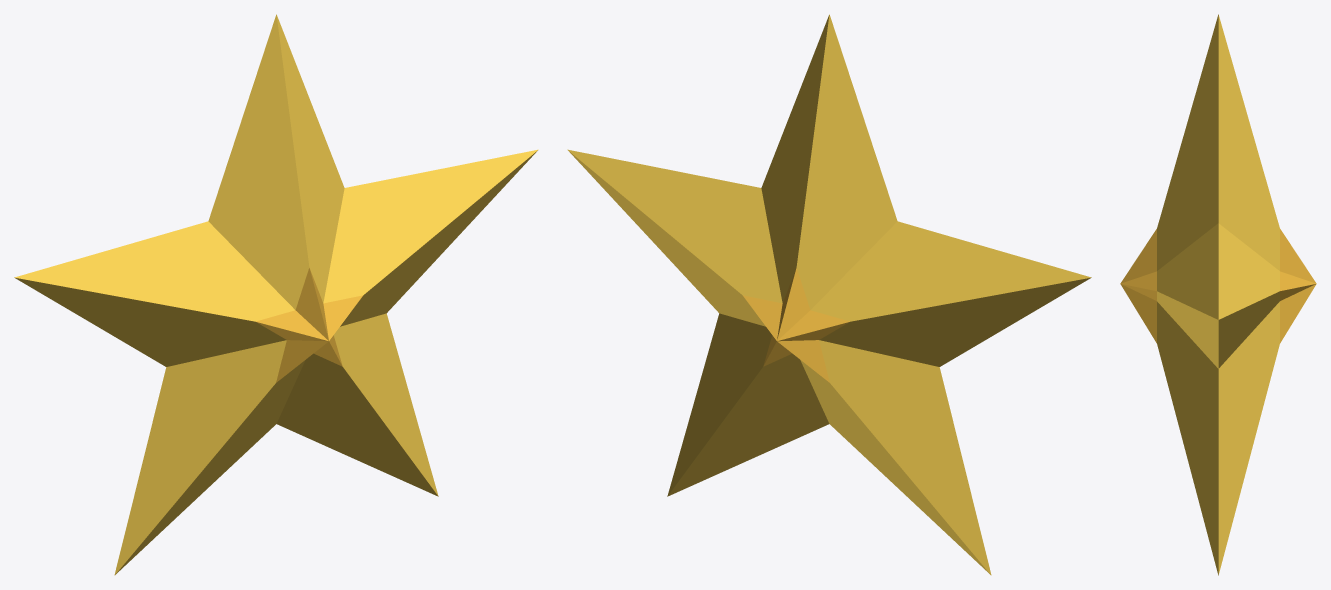
File: XmasStar.glb
The picture shows the model from 3 angles, left to right: view 1: azimuth 30°, elevation 25°; view 2: azimuth 150°, elevation 25°; view 3: azimuth 270°, elevation 25°; orthographic projection. The views are drawn at different scales.
Visible parts, largest first — view 1: XmasStar__Star, XmasStar__Gold; view 2: XmasStar__Star, XmasStar__Gold; view 3: XmasStar__Star, XmasStar__Gold.
Boxes of the visible parts, bbox=[...] form: XmasStar__Star: bbox=[14, 14, 538, 575]; XmasStar__Gold: bbox=[256, 268, 362, 382]; XmasStar__Star: bbox=[567, 14, 1091, 575]; XmasStar__Gold: bbox=[743, 268, 849, 382]; XmasStar__Star: bbox=[1157, 14, 1279, 575]; XmasStar__Gold: bbox=[1120, 229, 1316, 343].
Size of the model in its own units: 1.9 by 1.81 by 0.66.
